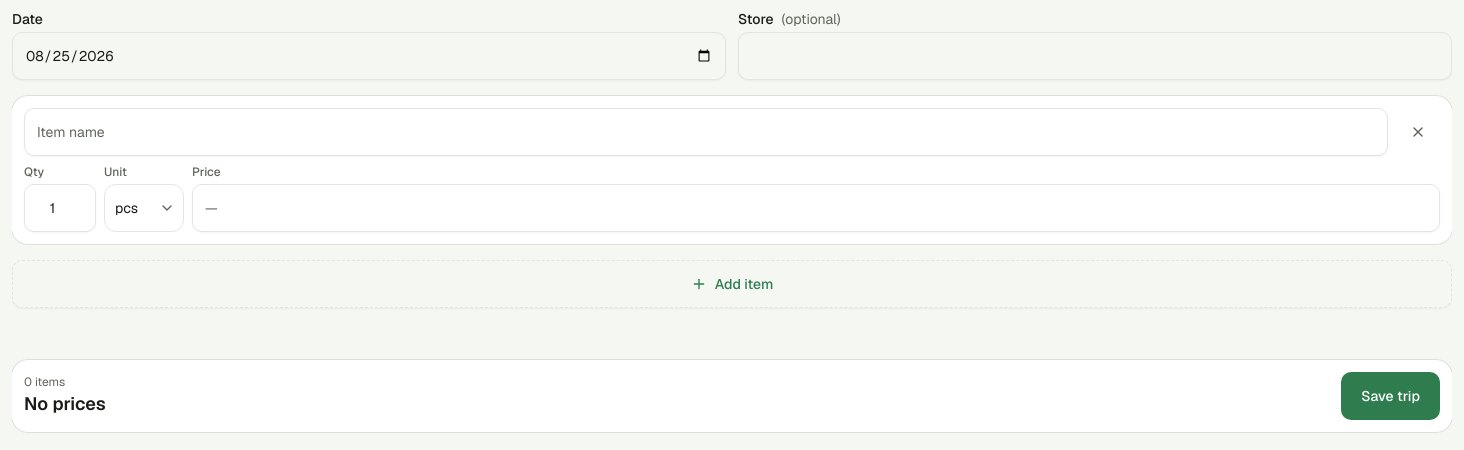
Scenario: TripForm › shows a running total as prices are typed
Check: the text "No prices" is shown, box 24,392 -> 106,415
Type "Rice" into the field named "Item 1" at (706, 132), box 24,108 -> 1388,156
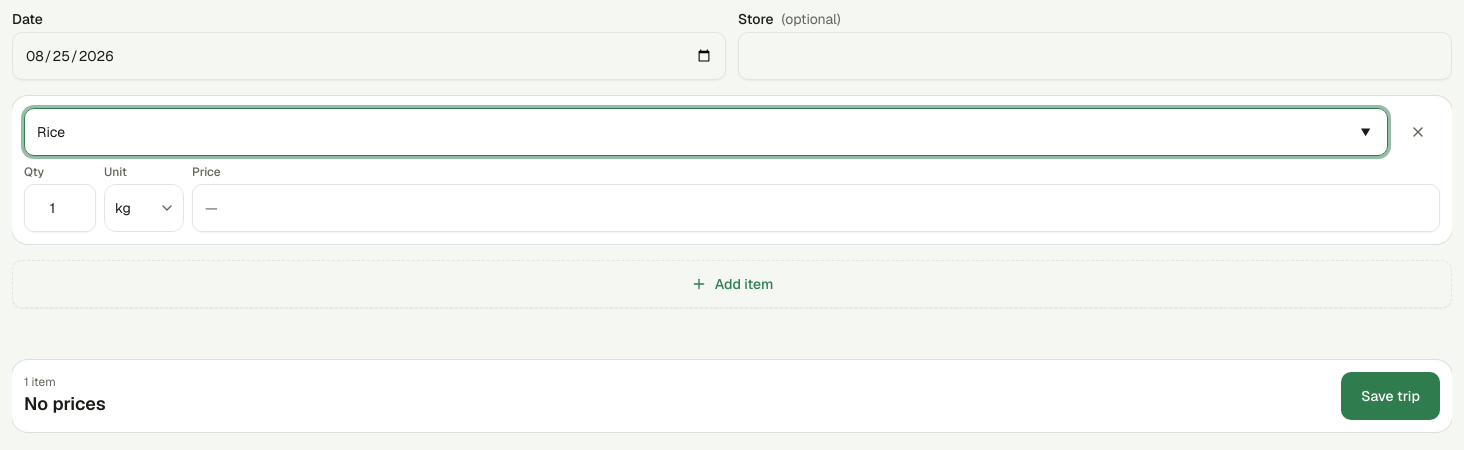
Type "1250.50" into the field labelled "Price" at (816, 208), box 192,184 -> 1440,232
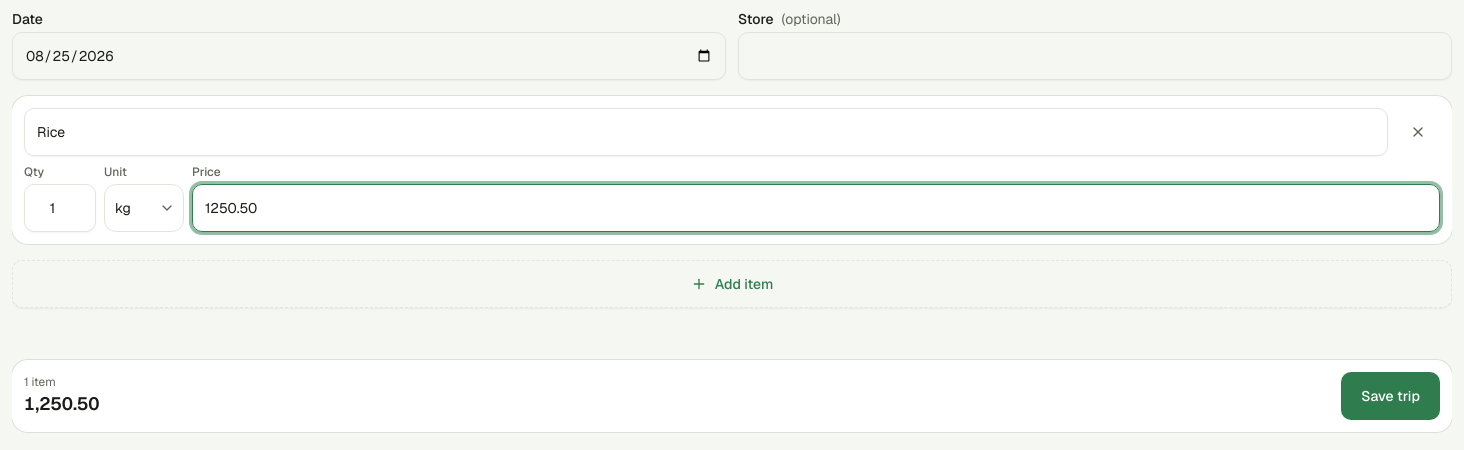
Check: the text "1,250.50" is shown, box 24,392 -> 100,415
